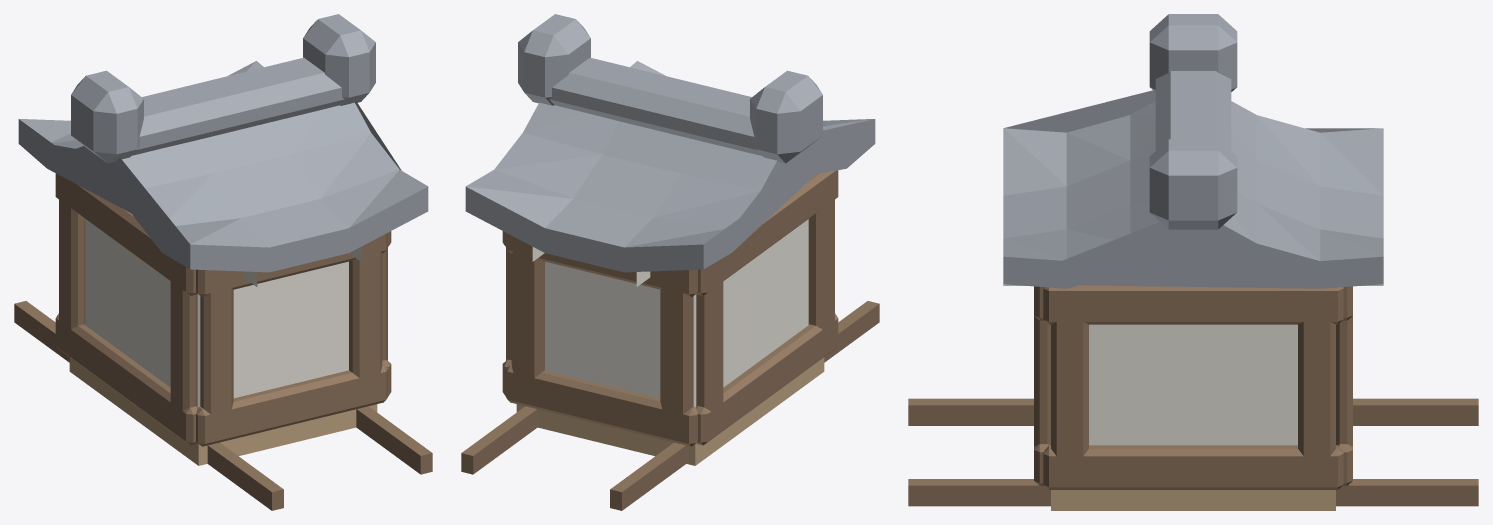
File: feudal-japan-castle-town-palanquin-e8614429__26502.glb
3 renders of one model, left to right at view 1: azimuth 30°, elevation 25°; view 2: azimuth 150°, elevation 25°; view 3: azimuth 270°, elevation 25°, orthographic. The views are drawn at different scales.
Visible parts, largest first — view 1: palanquin; view 2: palanquin; view 3: palanquin.
Part boxes in pixels (<box>): palanquin: <box>14,14,432,510</box>; palanquin: <box>461,14,879,510</box>; palanquin: <box>908,14,1478,510</box>.
Size of the model in its own units: 1.9 by 2.21 by 3.
